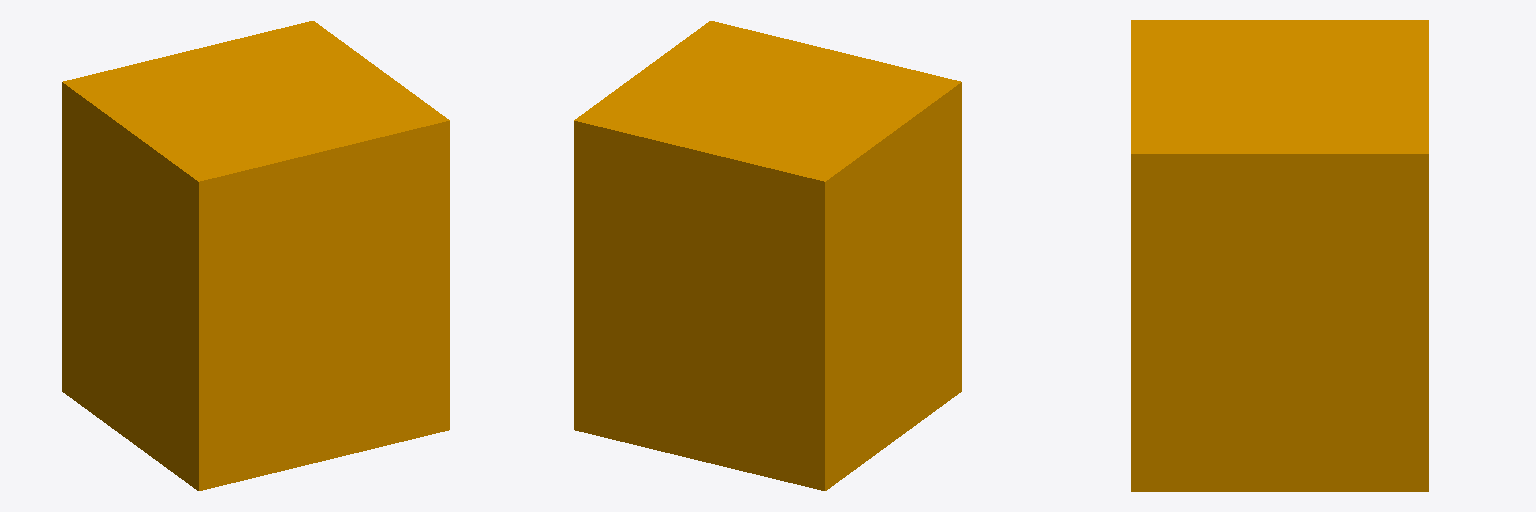
robot.urdf — object:
<robot name="object">
  <link name="object">
    <visual>
      <origin xyz="0 0 0" />
      <geometry>
        <box size="0.068 0.064 0.08" />
      </geometry>
    </visual>

    <collision>
      <origin xyz="0 0 0" />
      <geometry>
        <box size="0.068 0.064 0.08" />
      </geometry>
    </collision>

    <inertial>
      <mass value="0.05" />
      <inertia ixx="0.0001" ixy="0.0" ixz="0.0" iyy="0.0001" iyz="0.0" izz="0.0001" />
    </inertial>
  </link>
</robot>

--- What the picture shows (computed from the rendered views, not written in the file) ---
The picture shows the robot from 3 angles, left to right: view 1: azimuth 30°, elevation 25°; view 2: azimuth 150°, elevation 25°; view 3: azimuth 270°, elevation 25°; orthographic projection.
Robot: object — 1 links, 0 joints (none); root link object; default pose: every joint at zero.
Visible links, largest first — view 1: object; view 2: object; view 3: object.
Link boxes in pixels (x1,y1,x2,y2): object: (62, 21, 449, 490); object: (574, 21, 961, 490); object: (1131, 20, 1428, 491).
Bounding box of the posed robot: 0.068 × 0.064 × 0.08 m (x, y, z).
Geometry: primitives only (box / cylinder / sphere), no mesh files.